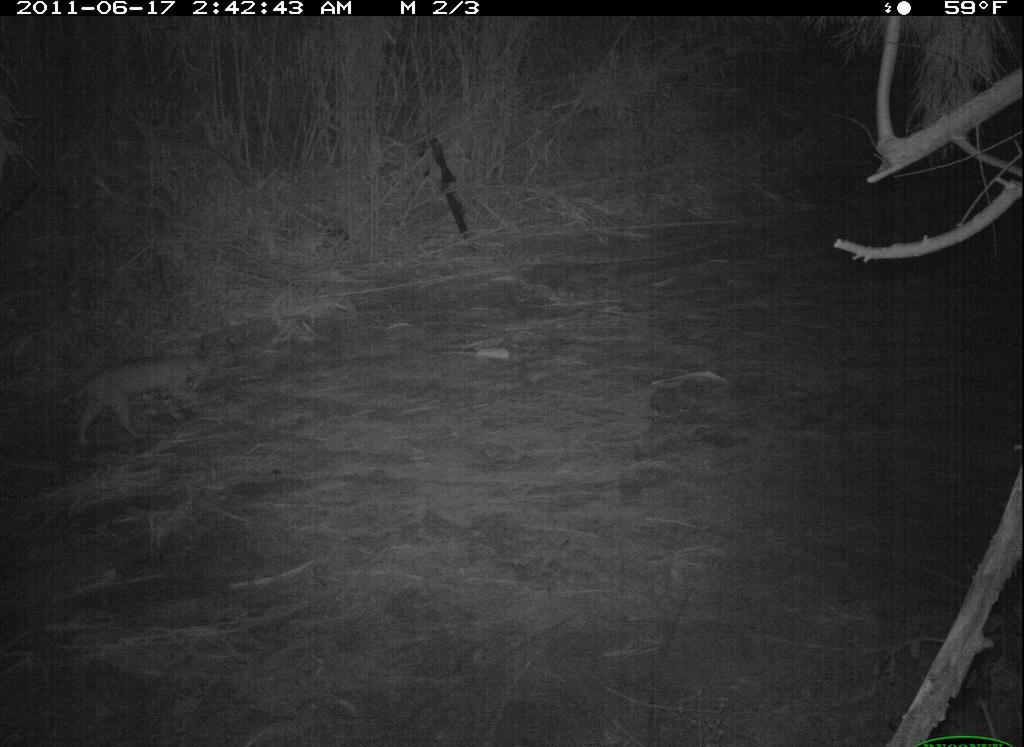bobcat: (49, 336, 230, 455)
